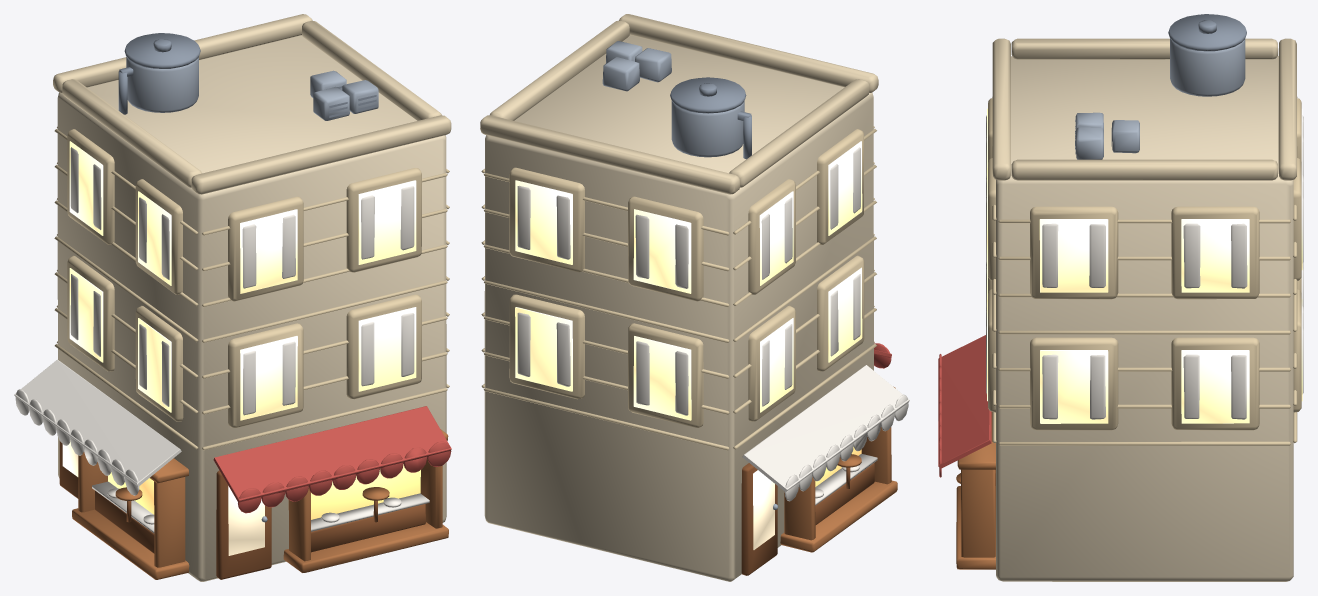
File: building.glb
3 renders of one model, left to right at view 1: azimuth 30°, elevation 25°; view 2: azimuth 150°, elevation 25°; view 3: azimuth 270°, elevation 25°, orthographic. The views are drawn at different scales.
Parts seen in each view (by area): view 1: building; view 2: building; view 3: building.
Boxes of the visible parts, x1,y1,x2,y2 form: building: (14,14,451,581); building: (480,14,909,581); building: (938,14,1303,581).
Bounding box in the file's own units: 2.33 × 3.28 × 2.33.
